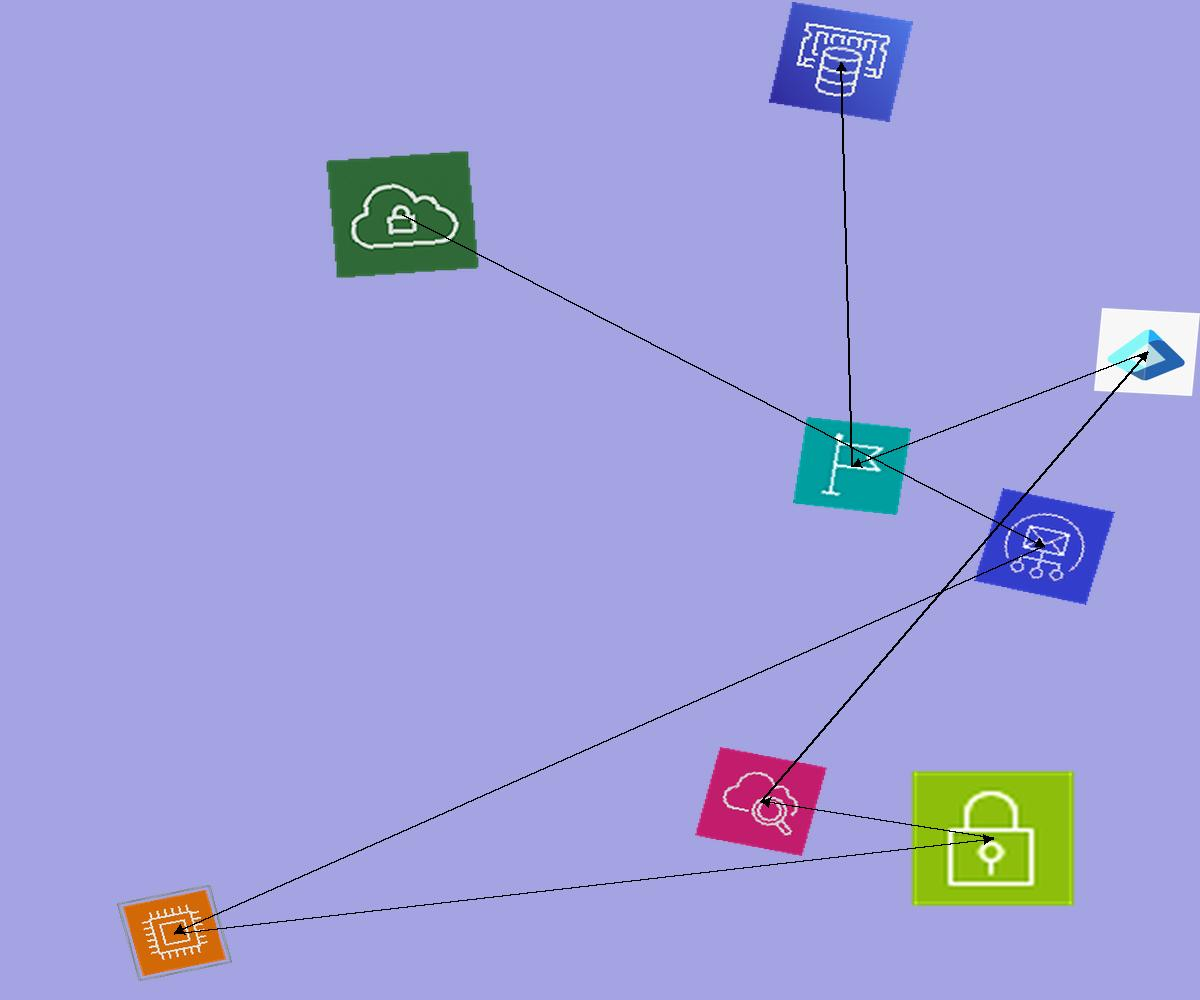AWS-Category_Compute: (116, 884, 233, 982)
AWS-CloudWatch: (694, 746, 828, 857)
AWS-ElastiCache: (769, 2, 913, 122)
AWS-Private_vpc: (325, 150, 480, 279)
AWS-Public-subnet: (908, 768, 1078, 909)
AWS-Region: (793, 417, 911, 515)
AWS-Simple-Email-Service: (974, 488, 1115, 605)
Azure_microsoft_entra: (1094, 308, 1200, 396)
